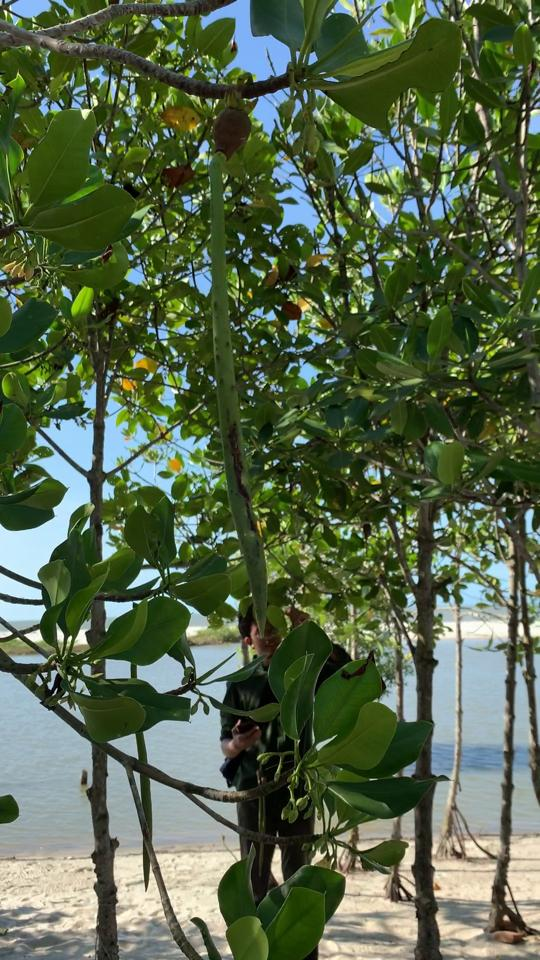setengah matang: (197, 85, 283, 648)
